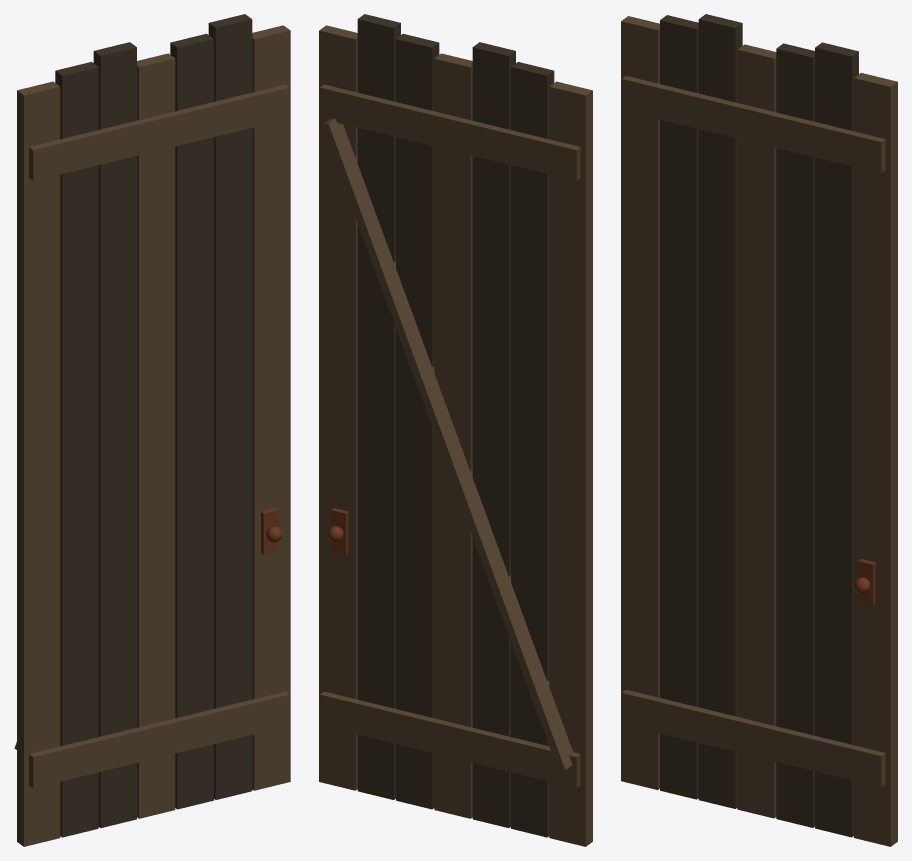
The model's file is SM_Door_abandoned_110x300.fbx.
3 renders of one model, left to right at view 1: azimuth 30°, elevation 25°; view 2: azimuth 150°, elevation 25°; view 3: azimuth 330°, elevation 25°, orthographic.
Parts seen in each view (by area): view 1: SM_Door_abandoned_110x300; view 2: SM_Door_abandoned_110x300; view 3: SM_Door_abandoned_110x300.
Part boxes in pixels (x1,y1,x2,y2): SM_Door_abandoned_110x300: [14, 14, 290, 846]; SM_Door_abandoned_110x300: [319, 14, 592, 846]; SM_Door_abandoned_110x300: [621, 14, 897, 846].
Bounding box in the file's own units: 1.08 × 2.99 × 0.2.
